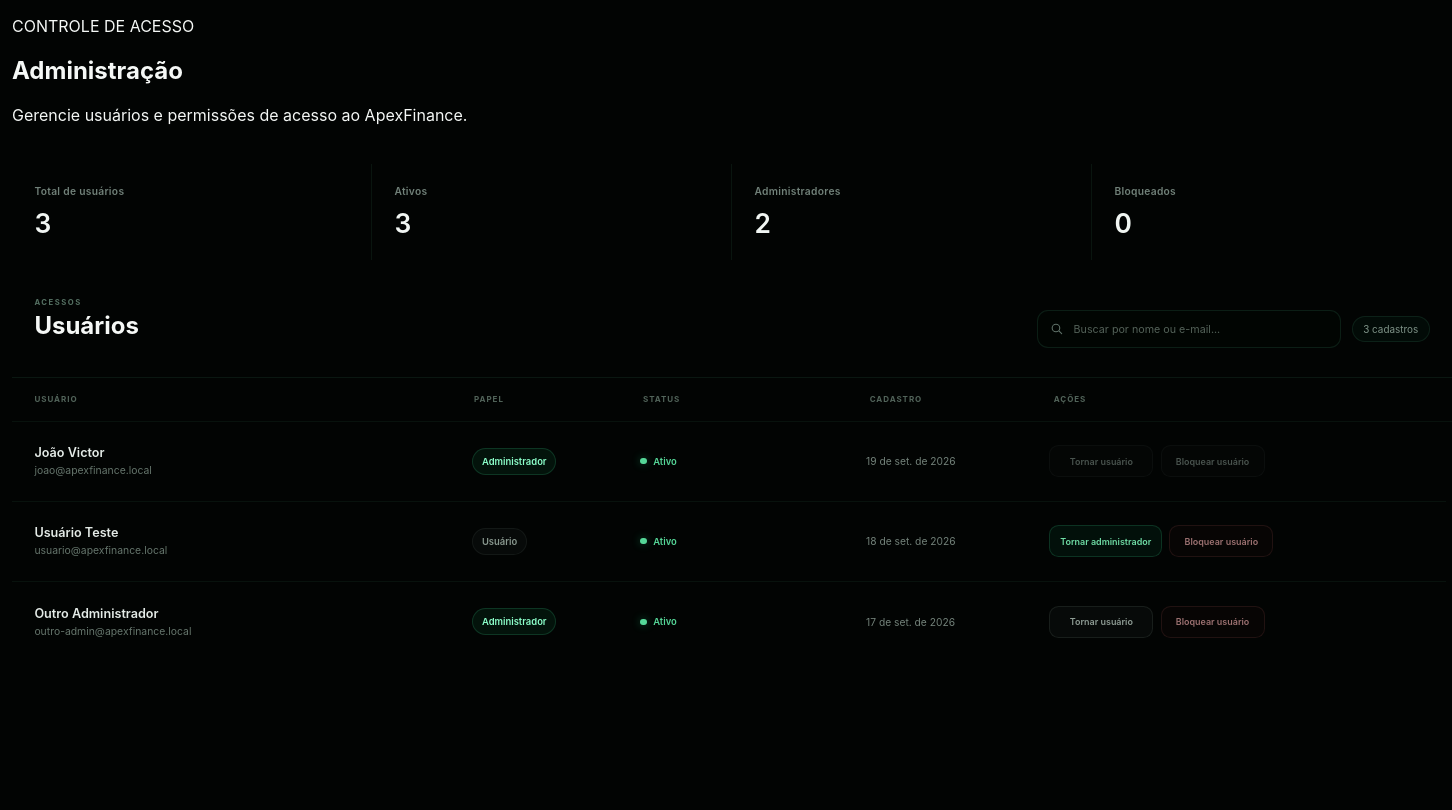
Test: Gerenciamento de papéis na Administração › mantém o estado atual e exibe erro quando a alteração falha
Expected: the list item "Usuário Teste" is shown, [34, 525, 118, 540]
Click the button "Tornar administrador" at [1106, 541], box [1049, 525, 1162, 557]
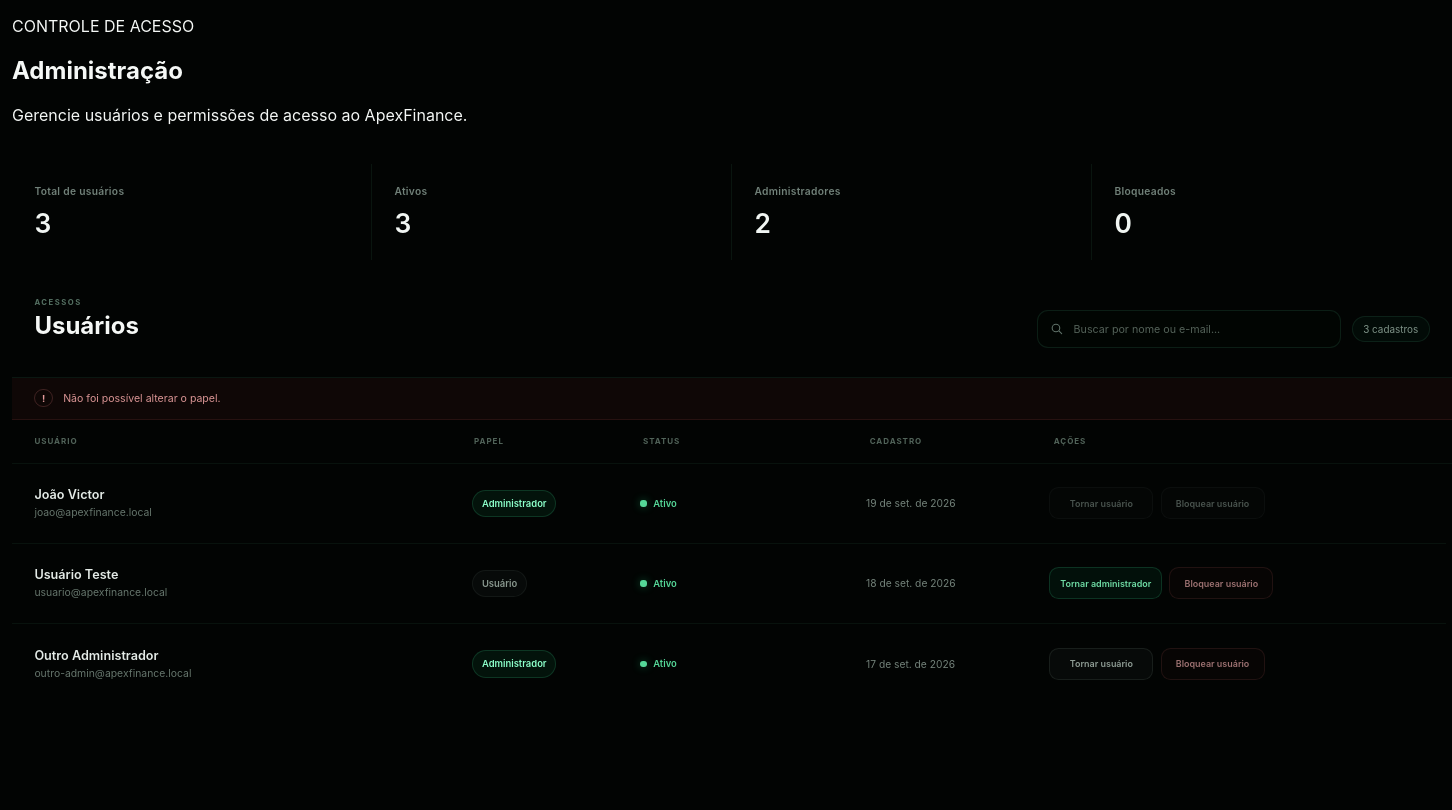
Expected: the text "Usuário" in the row of "Usuário Teste" is shown, [482, 578, 517, 589]
Expected: the message shows "Não foi possível alterar o papel", [63, 392, 221, 405]
